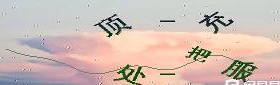chinese: (94, 12, 127, 39), (199, 11, 230, 33), (222, 60, 256, 80), (116, 62, 148, 81), (189, 44, 211, 67)
